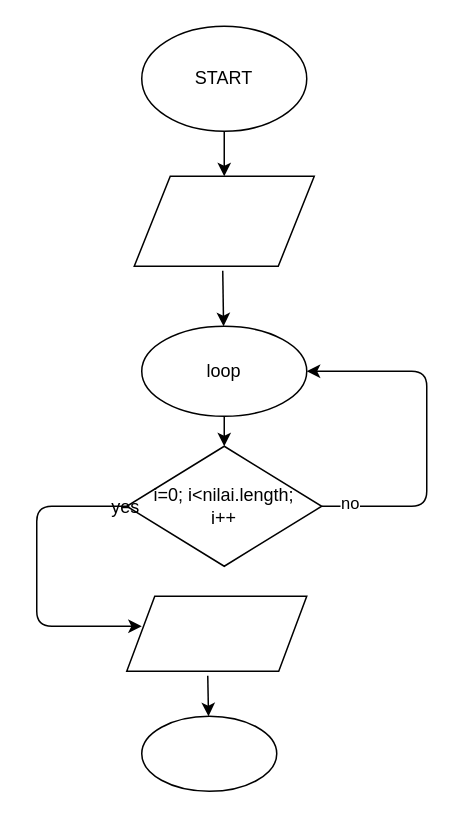
Some shapes in this 465 by 818 pixel diagram are drawn without their labels. Each missing label, with the centre of its shape:
"cetak hasil" goes at pixel 216 633.
"input nilai array" goes at pixel 223 220.
